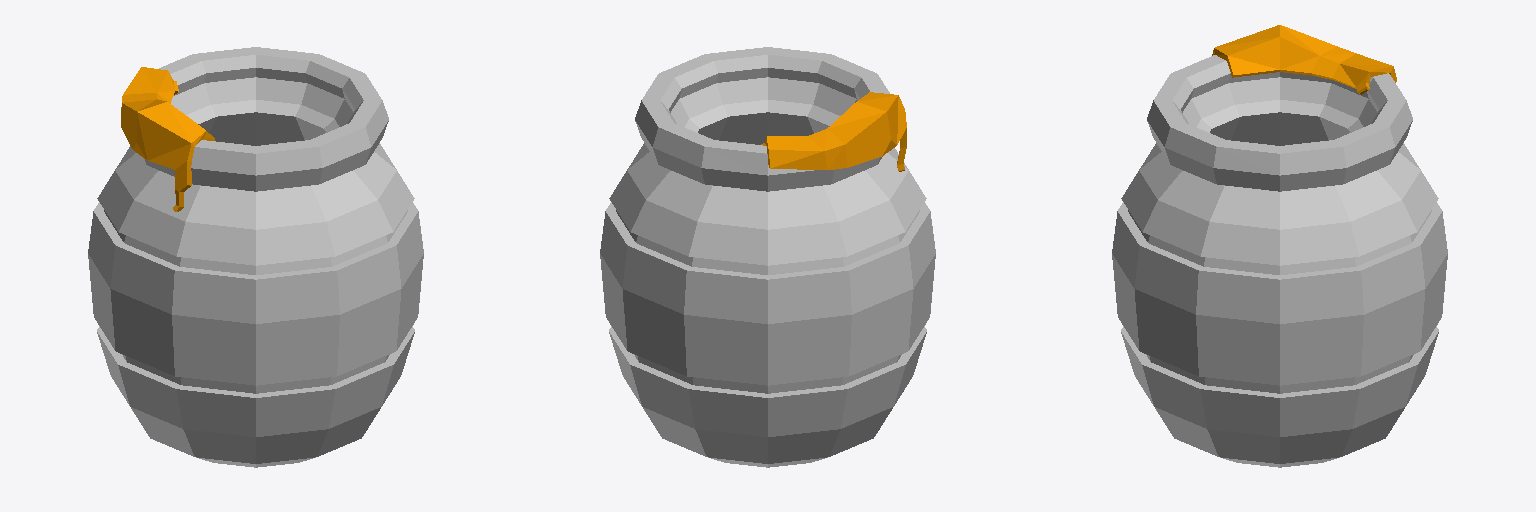
File: honey.obj
3 renders of one model, left to right at view 1: azimuth 30°, elevation 25°; view 2: azimuth 150°, elevation 25°; view 3: azimuth 270°, elevation 25°, orthographic.
Parts seen in each view (by area): view 1: Cylinder_Cylinder.001; view 2: Cylinder_Cylinder.001; view 3: Cylinder_Cylinder.001.
Boxes of the visible parts, box(x1,y1,x2,y2) form: Cylinder_Cylinder.001: box(88, 47, 423, 467); Cylinder_Cylinder.001: box(600, 47, 935, 467); Cylinder_Cylinder.001: box(1112, 25, 1447, 467).
Size of the model in its own units: 0.0334 by 0.0386 by 0.0334.